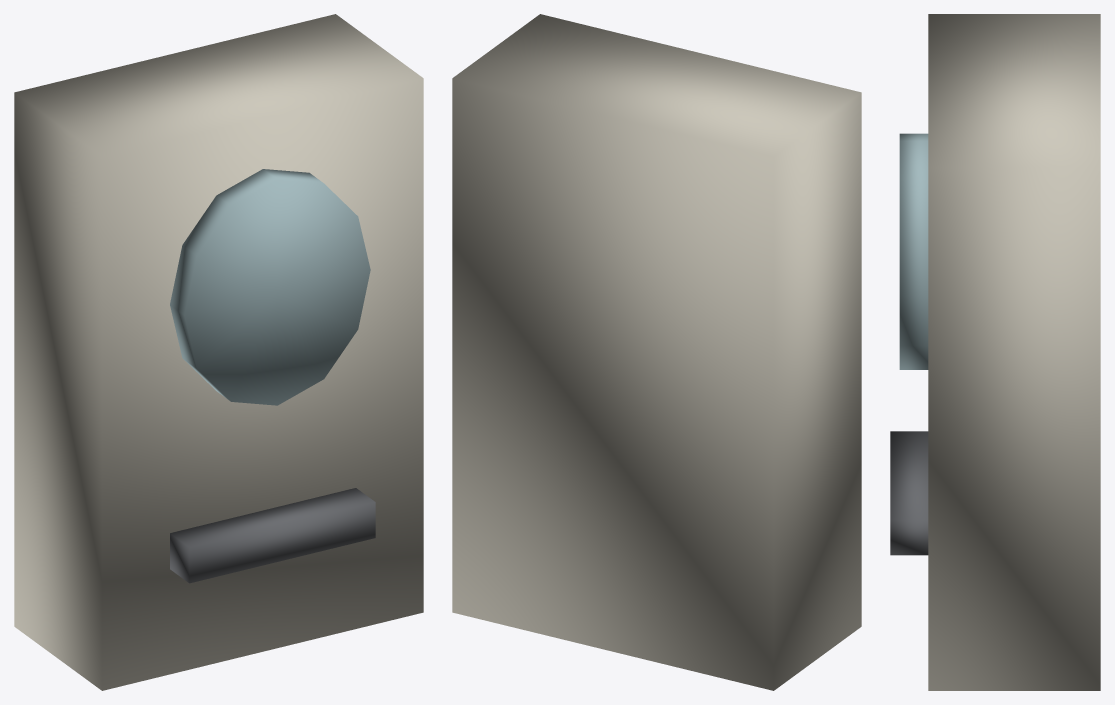
File: employee_punch_clock__tall.glb
The picture shows the model from 3 angles, left to right: view 1: azimuth 30°, elevation 25°; view 2: azimuth 150°, elevation 25°; view 3: azimuth 270°, elevation 25°; orthographic projection. The views are drawn at different scales.
Parts seen in each view (by area): view 1: world; view 2: world; view 3: world.
Boxes of the visible parts, <box> form: world: <box>14,14,423,690</box>; world: <box>452,14,861,690</box>; world: <box>890,14,1100,690</box>.
Bounding box in the file's own units: 0.38 × 0.6032 × 0.22.
